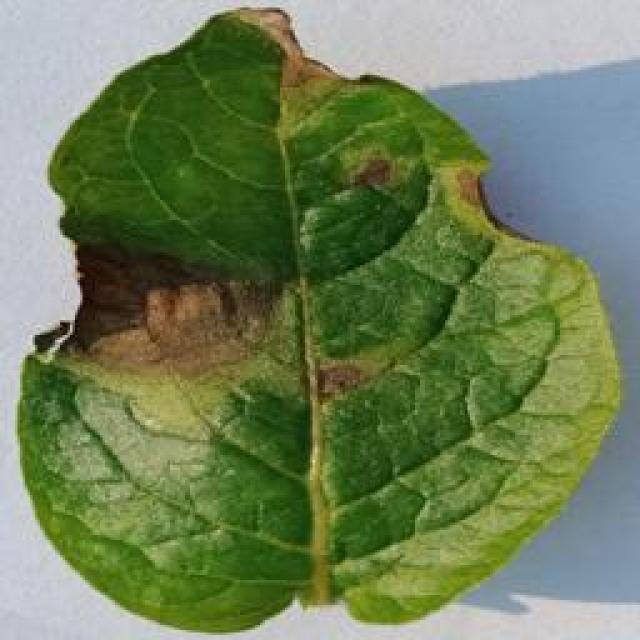Potato_Late_Blight: (18, 8, 612, 630)
